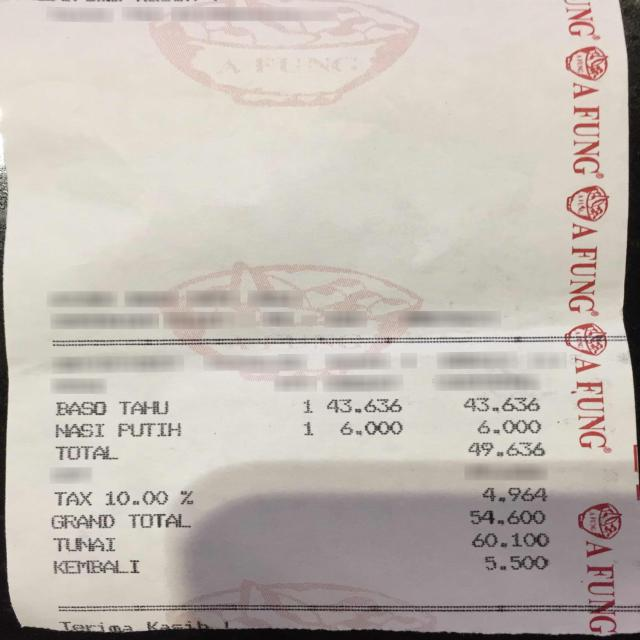text: (54, 560, 138, 574), (471, 532, 549, 547), (463, 397, 539, 412), (128, 513, 194, 530), (468, 442, 546, 456), (469, 511, 546, 525), (55, 621, 136, 634), (326, 398, 401, 412), (485, 555, 549, 571), (117, 422, 180, 437), (477, 419, 540, 434), (55, 445, 118, 460), (105, 490, 167, 505), (482, 488, 547, 502), (50, 514, 114, 528), (339, 421, 402, 435), (146, 618, 208, 632), (53, 538, 114, 551), (56, 401, 106, 415), (54, 423, 104, 437), (118, 401, 167, 414), (53, 492, 92, 505), (301, 399, 315, 414), (180, 490, 193, 504), (302, 421, 314, 436)
